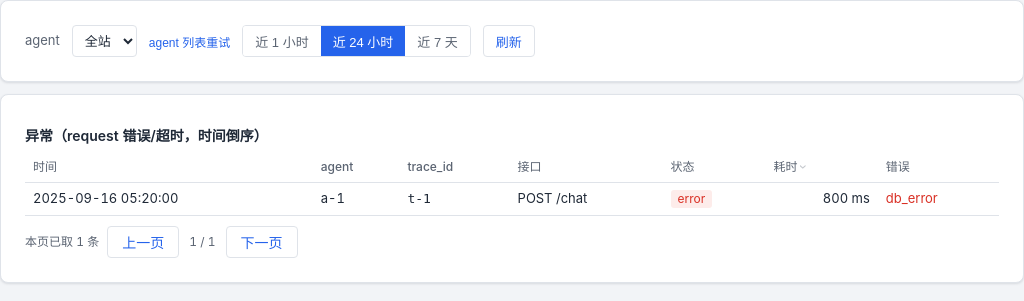
P1-6 异常页按耗时排序 › 再点一次 ⇒ 恢复默认并在表头文案上如实体现（标题不能撒谎）
Step 1. Click the column heading "耗时 ›" → (822,167), box [766,152,878,182]
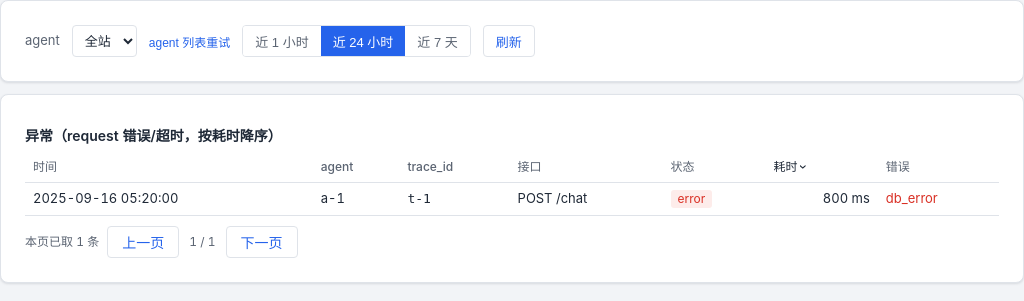
Step 2. Click the column heading "耗时 ›" → (822,167), box [766,152,878,182]
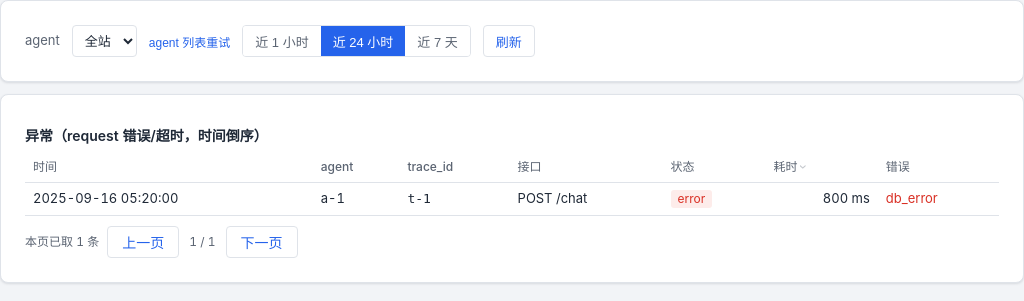
Expected: the text with class "head" shows "时间倒序", [25,127,268,144]
